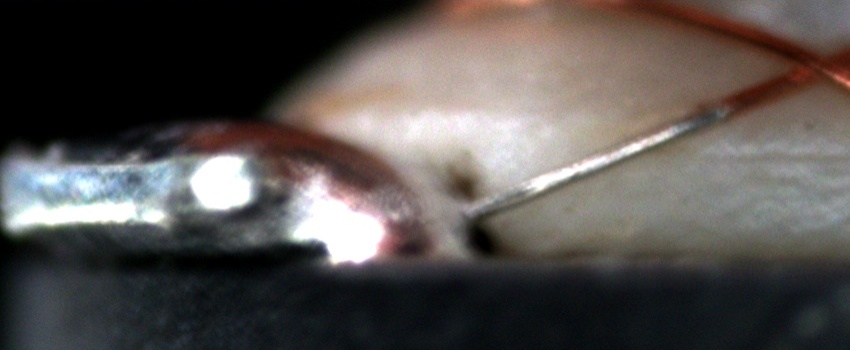CL: (768, 33, 845, 93)
DL: (696, 125, 850, 186)
TS: (469, 103, 727, 218)
